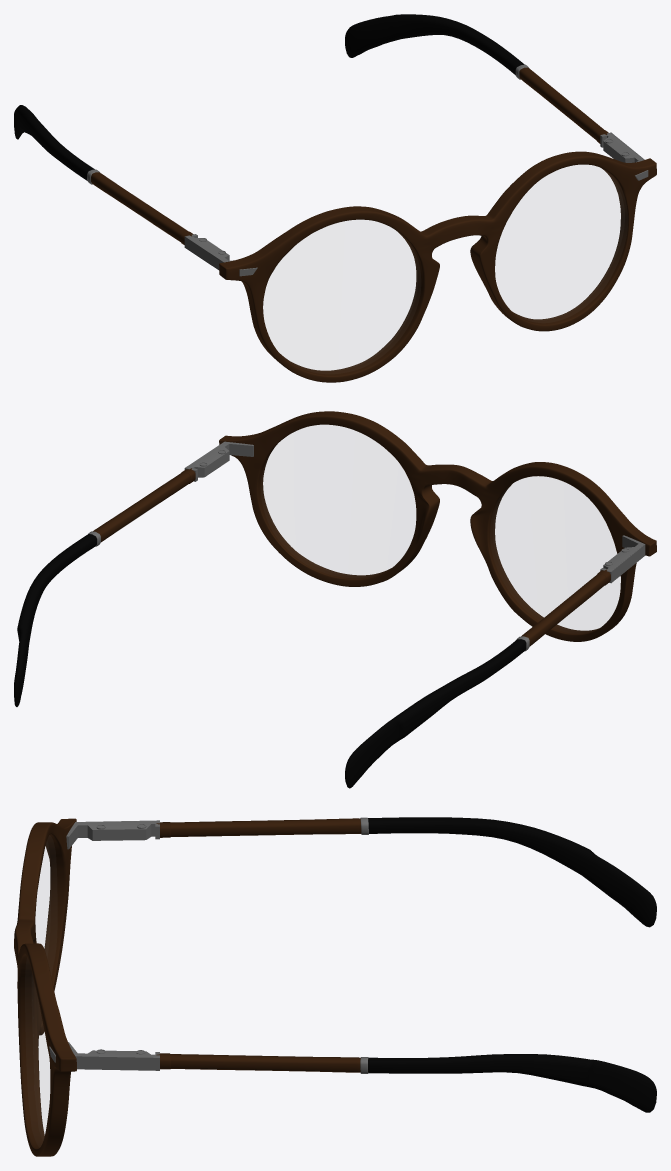
Rendered from fbxGlasses.fbx.
3 renders of one model, top to bottom at view 1: azimuth 30°, elevation 25°; view 2: azimuth 150°, elevation 25°; view 3: azimuth 270°, elevation 25°, orthographic. The views are drawn at different scales.
Visible parts, largest first — view 1: structure, pin2, p1, p2, pin3; view 2: structure, p1, pin2, pin3, p2; view 3: structure, p1, pin2, p2, pin3.
Boxes of the visible parts, bbox=[...] form: structure: bbox=[219, 151, 656, 382]; pin2: bbox=[345, 14, 608, 143]; p1: bbox=[14, 105, 193, 244]; p2: bbox=[184, 234, 233, 270]; pin3: bbox=[600, 132, 644, 162]; structure: bbox=[219, 411, 656, 641]; p1: bbox=[345, 569, 610, 788]; pin2: bbox=[14, 468, 195, 706]; pin3: bbox=[184, 441, 253, 481]; p2: bbox=[600, 535, 645, 583]; structure: bbox=[14, 818, 76, 1156]; p1: bbox=[156, 817, 656, 927]; pin2: bbox=[156, 1053, 656, 1112]; p2: bbox=[66, 820, 159, 849]; pin3: bbox=[68, 1042, 159, 1070].
Bounding box in the file's own units: 13.9 × 5.07 × 15.38.
